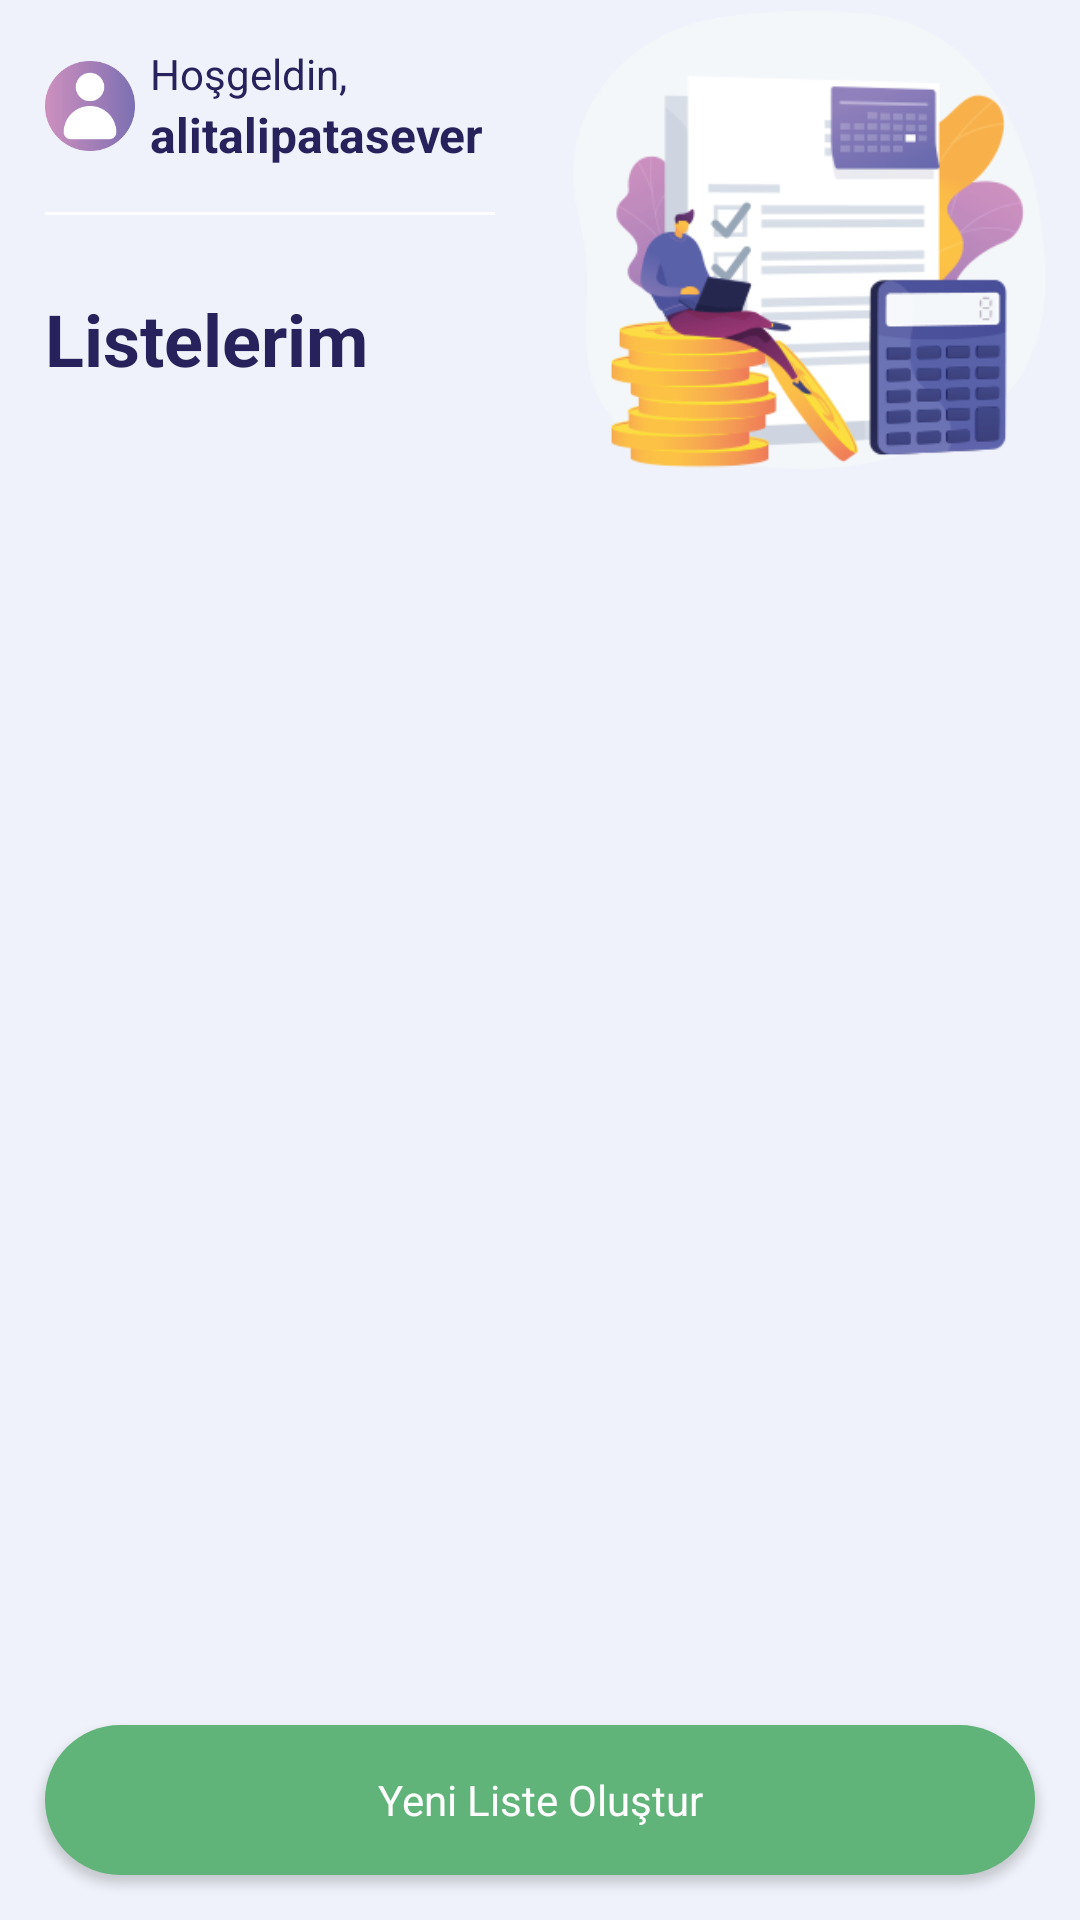

Icon click points for this 1080*1920 phone screenshot, format [x,y]:
profile mor: [90,106]
